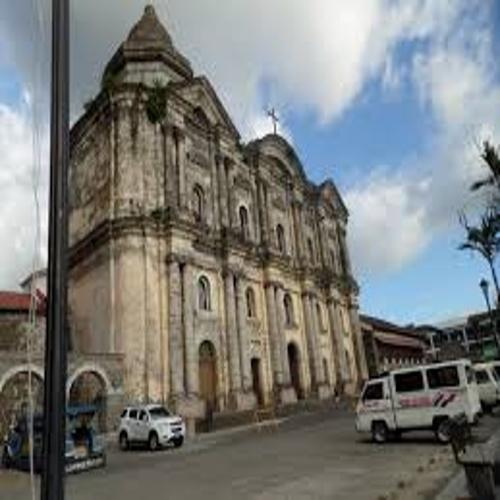Taal Basilica Church: (48, 7, 373, 418)
